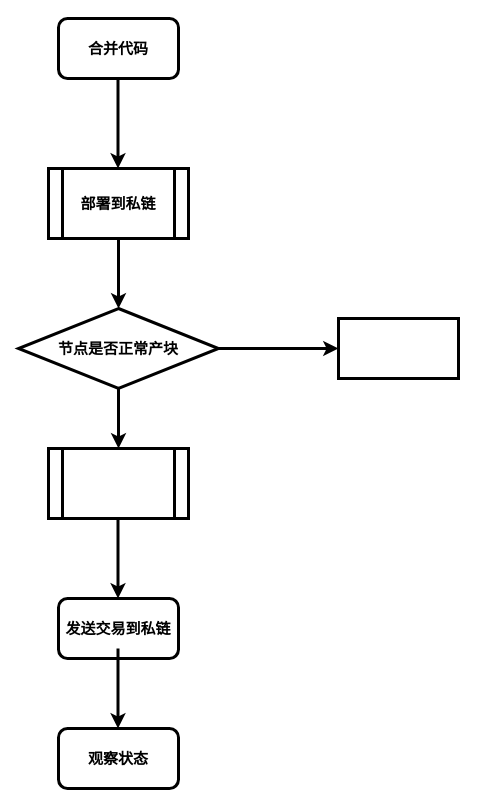
Image size: 477x807. Some labels were removed from this diagram. Here are the shapes that lost their labels. From the top down, the centre of each, then its label:
At [398,348]: "检查链状态".
At [118,483]: "构建交易".
